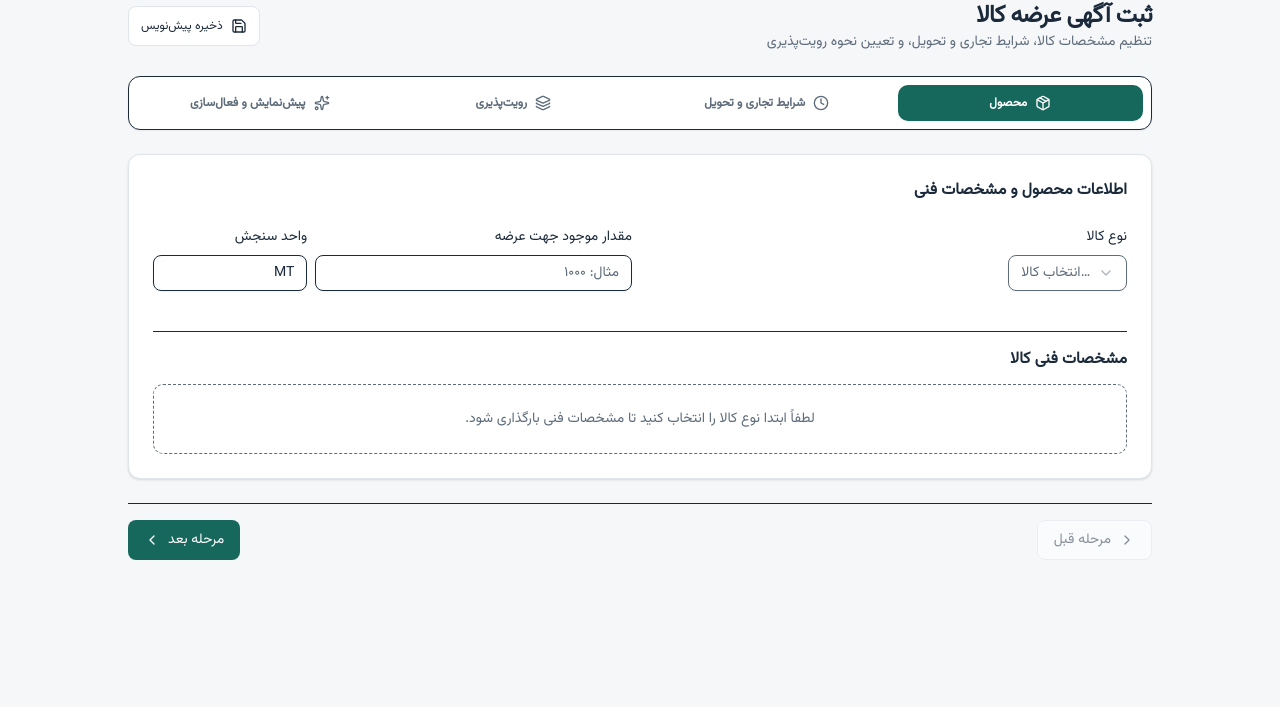
Test: T0509 — Supply Listing UI Component Suite › 9. Dynamic specification backend errors: maps structured errors to fields
# Select Bitumen & enter quantity
Click the dropdown named "نوع کالا": (1068, 273) [1008,255,1127,291]
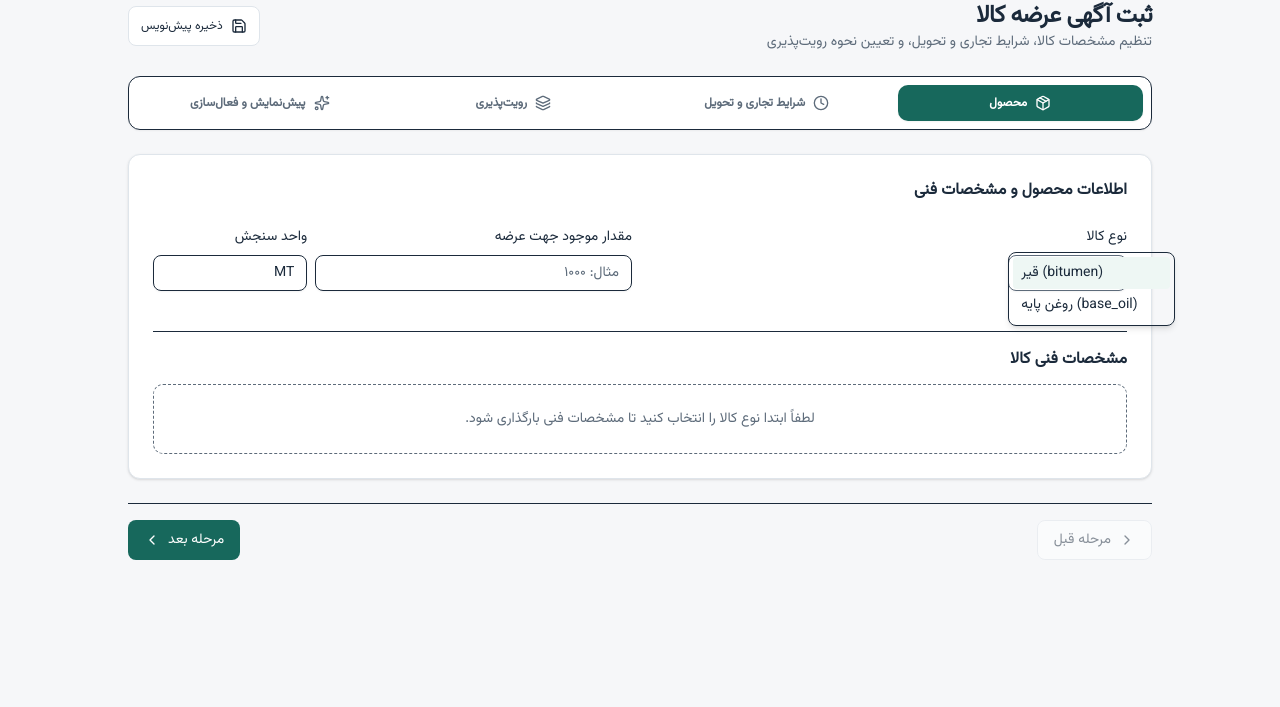
Click the option "قیر (bitumen)": (1091, 273) [1013,257,1170,289]
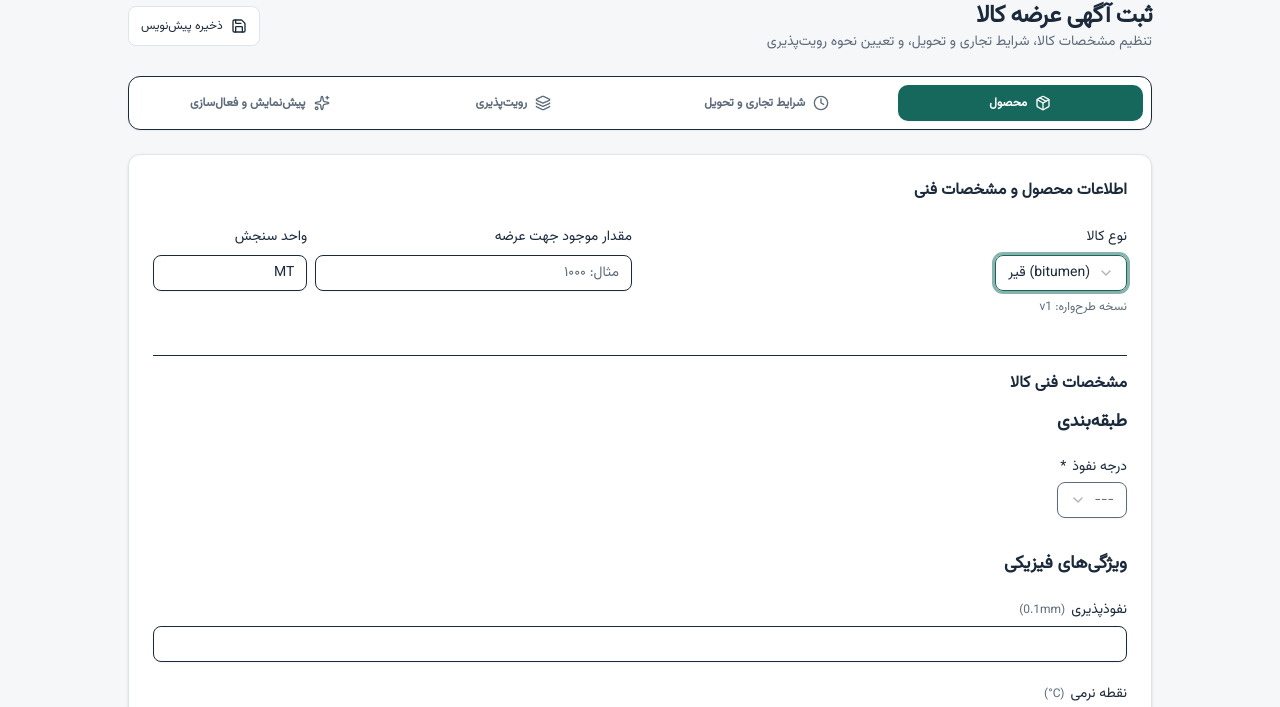
In the number field with placeholder "مثال: ۱۰۰۰": (474, 273) [315,255,632,291], type "100"
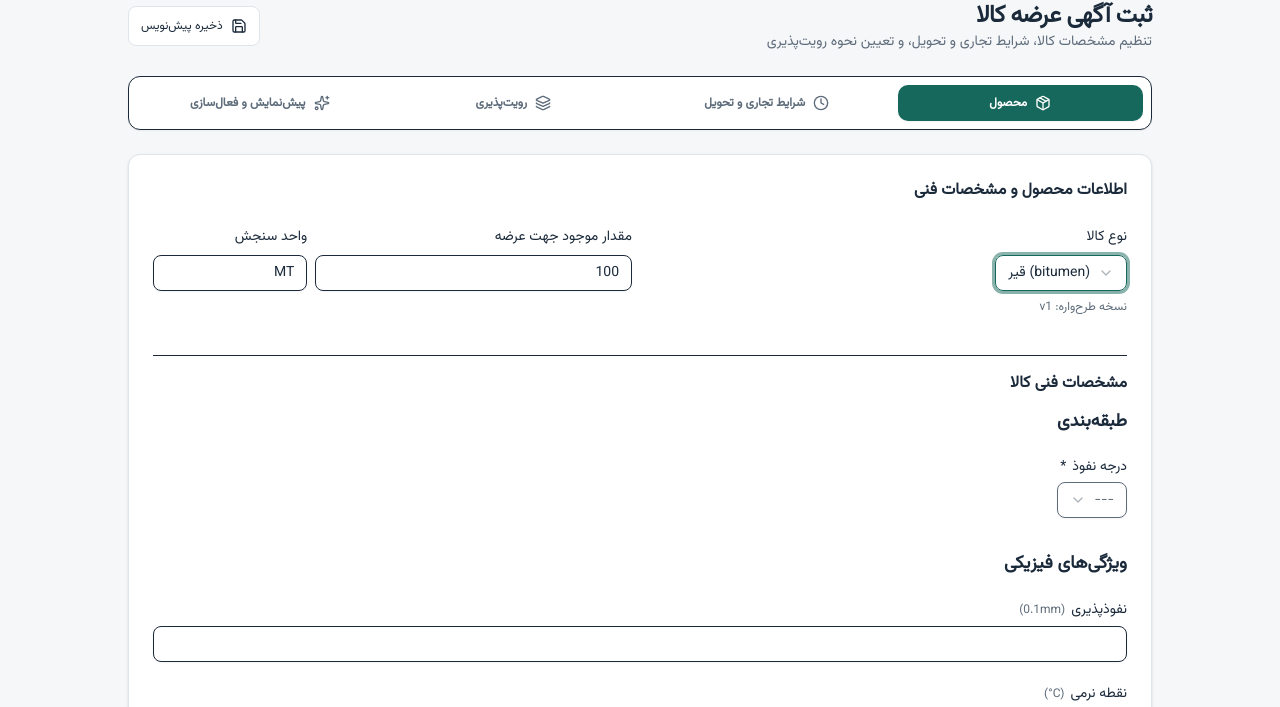
# Save draft to trigger backend validation errors
Click the button "ذخیره پیش‌نویس": (194, 26) [128,6,260,46]
(page scrolled)
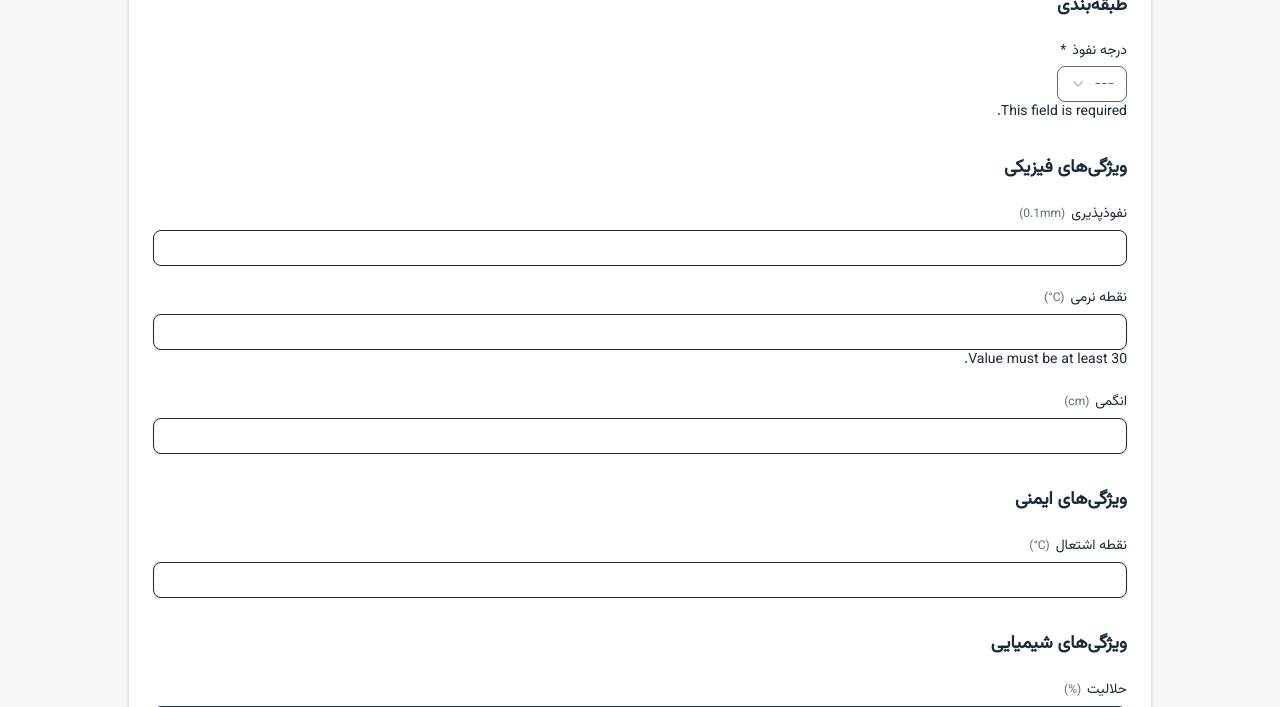
Now the text "This field is required." is shown, box [997,101,1127,123]
Now the text "Value must be at least 30." is shown, box [964,349,1127,371]
